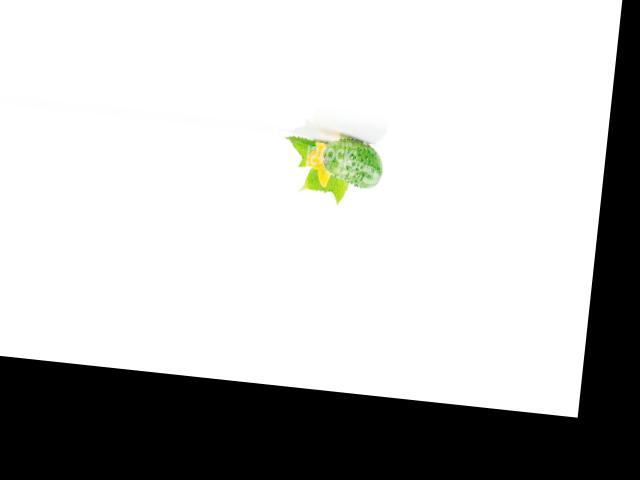cucumber: (321, 136, 386, 189)
